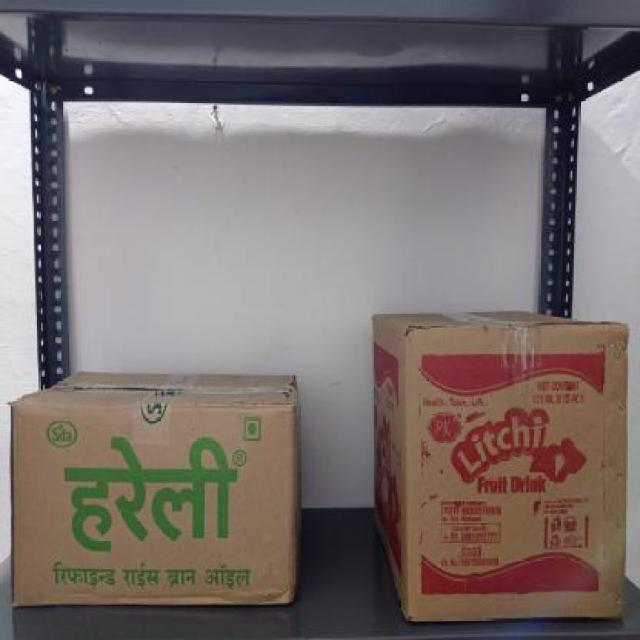box: (406, 323, 626, 623), (9, 398, 297, 607)
